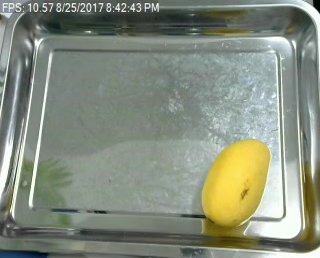Mango: (198, 137, 274, 227)
